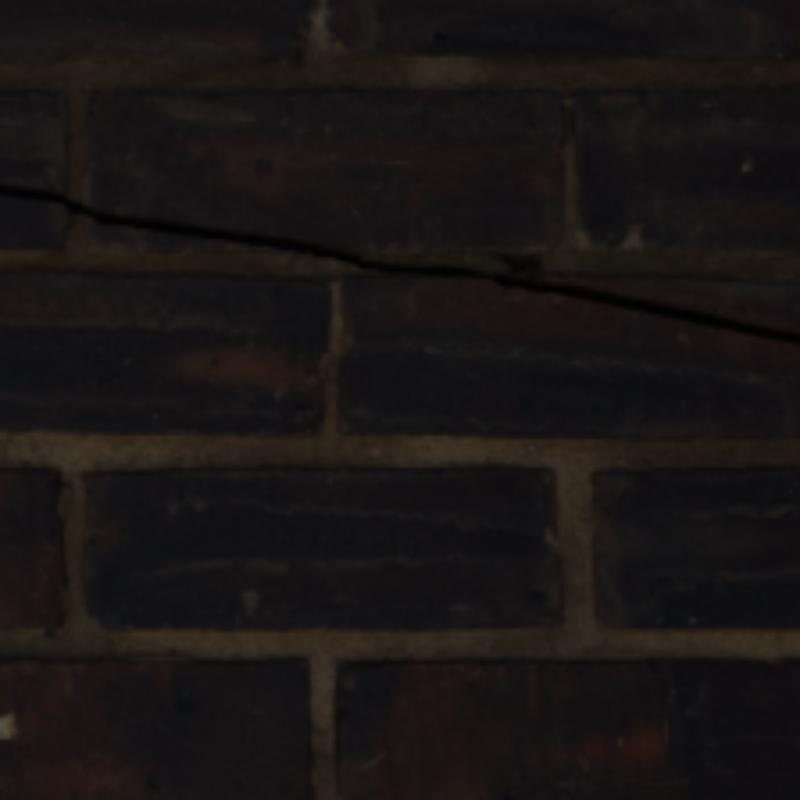pothole: (0, 182, 796, 339)
